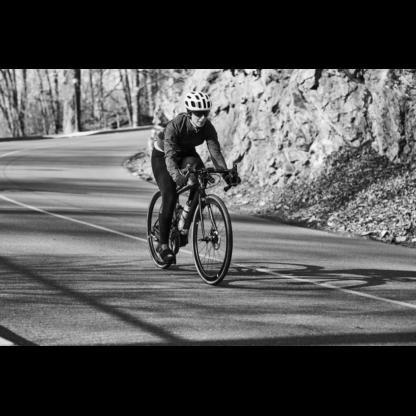Bicycle: (127, 150, 253, 297)
